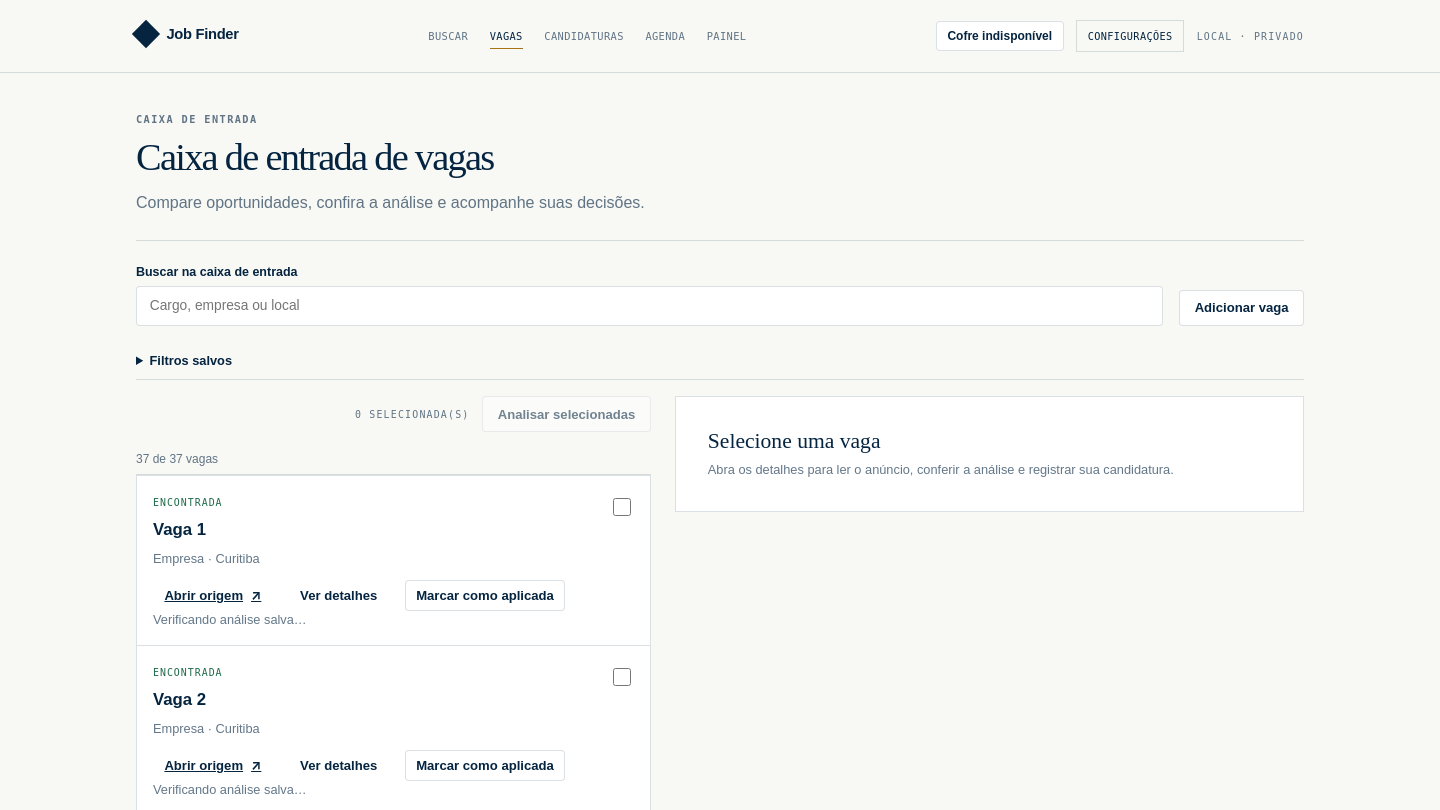
Test: JF-817 caixa e análise contextual › mantém todas as páginas acessíveis e informa contagem ao filtrar
Expected: the text "37 de 37 vagas" is shown, [136, 452, 218, 466]
Type "Vaga 37" into the field labelled "Buscar na caixa de entrada". click: (650,306)
box: [136, 286, 1163, 326]
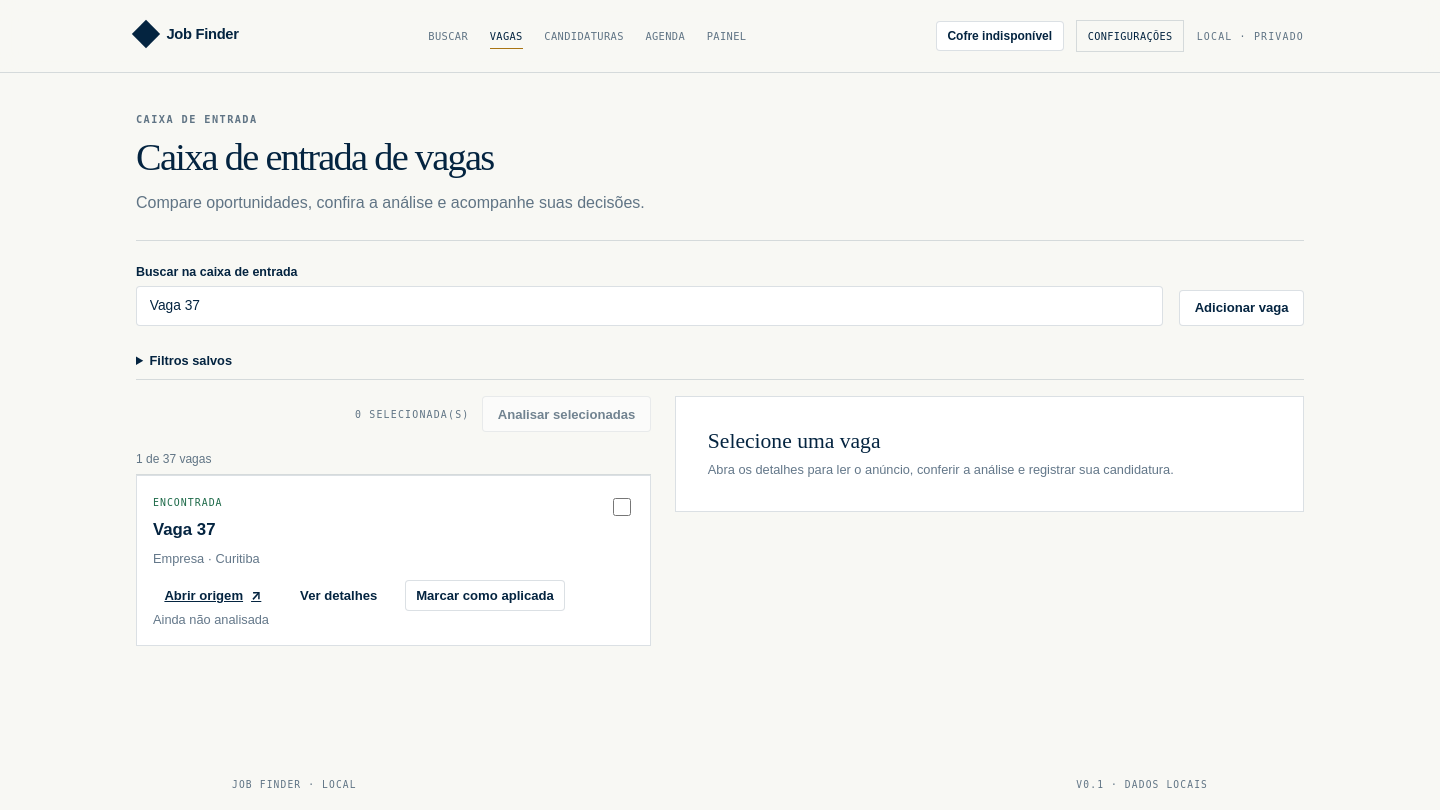
Now the text "1 de 37 vagas" is shown, box [136, 452, 211, 466]
Now the heading "Vaga 1" is gone
